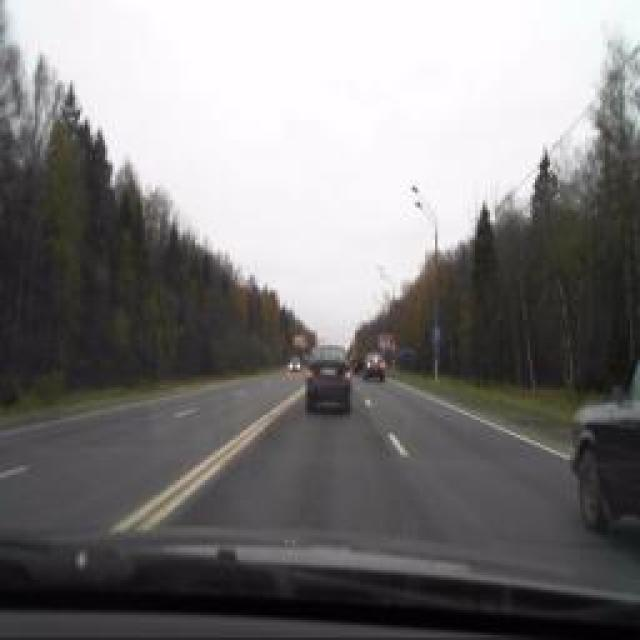sign: (432, 326, 442, 344)
